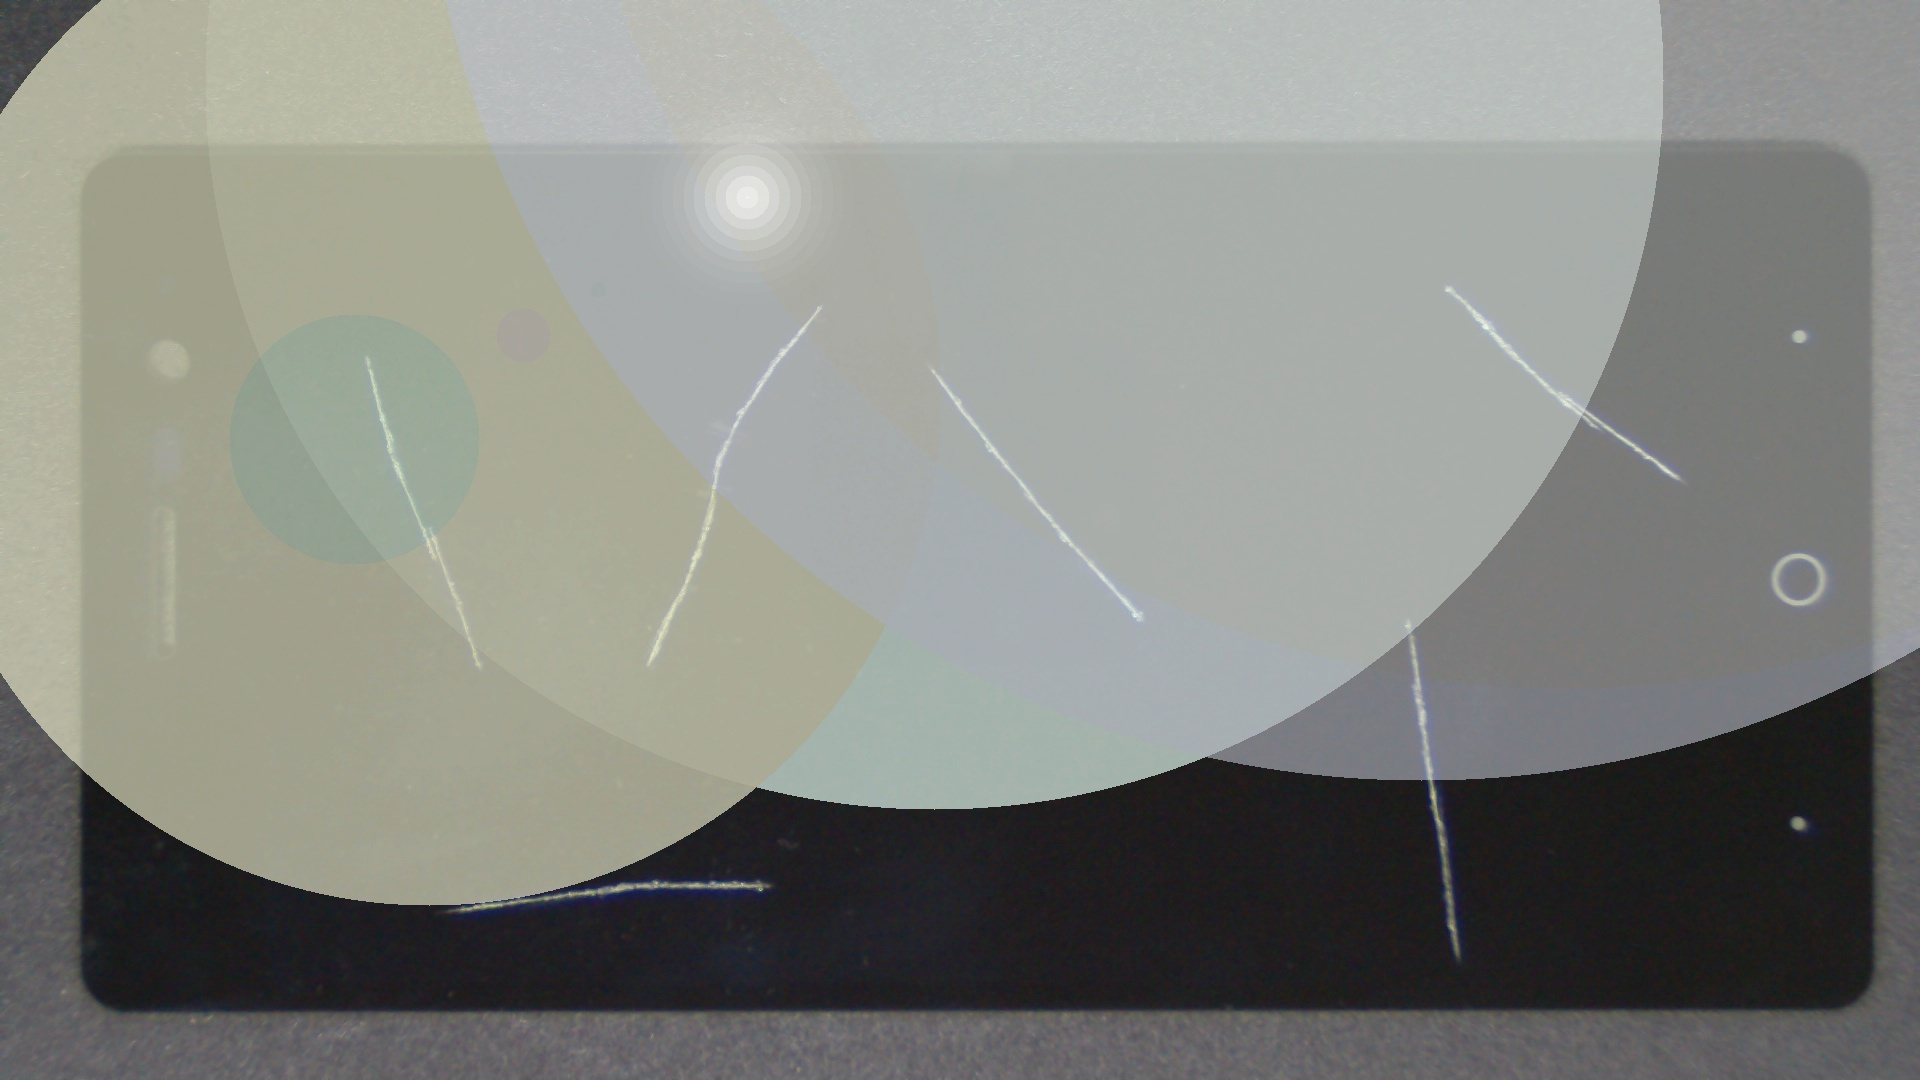oil: (704, 307, 1920, 927), (327, 439, 978, 1080), (724, 141, 1920, 426), (465, 181, 1394, 546), (411, 152, 1233, 456), (182, 174, 546, 534)
